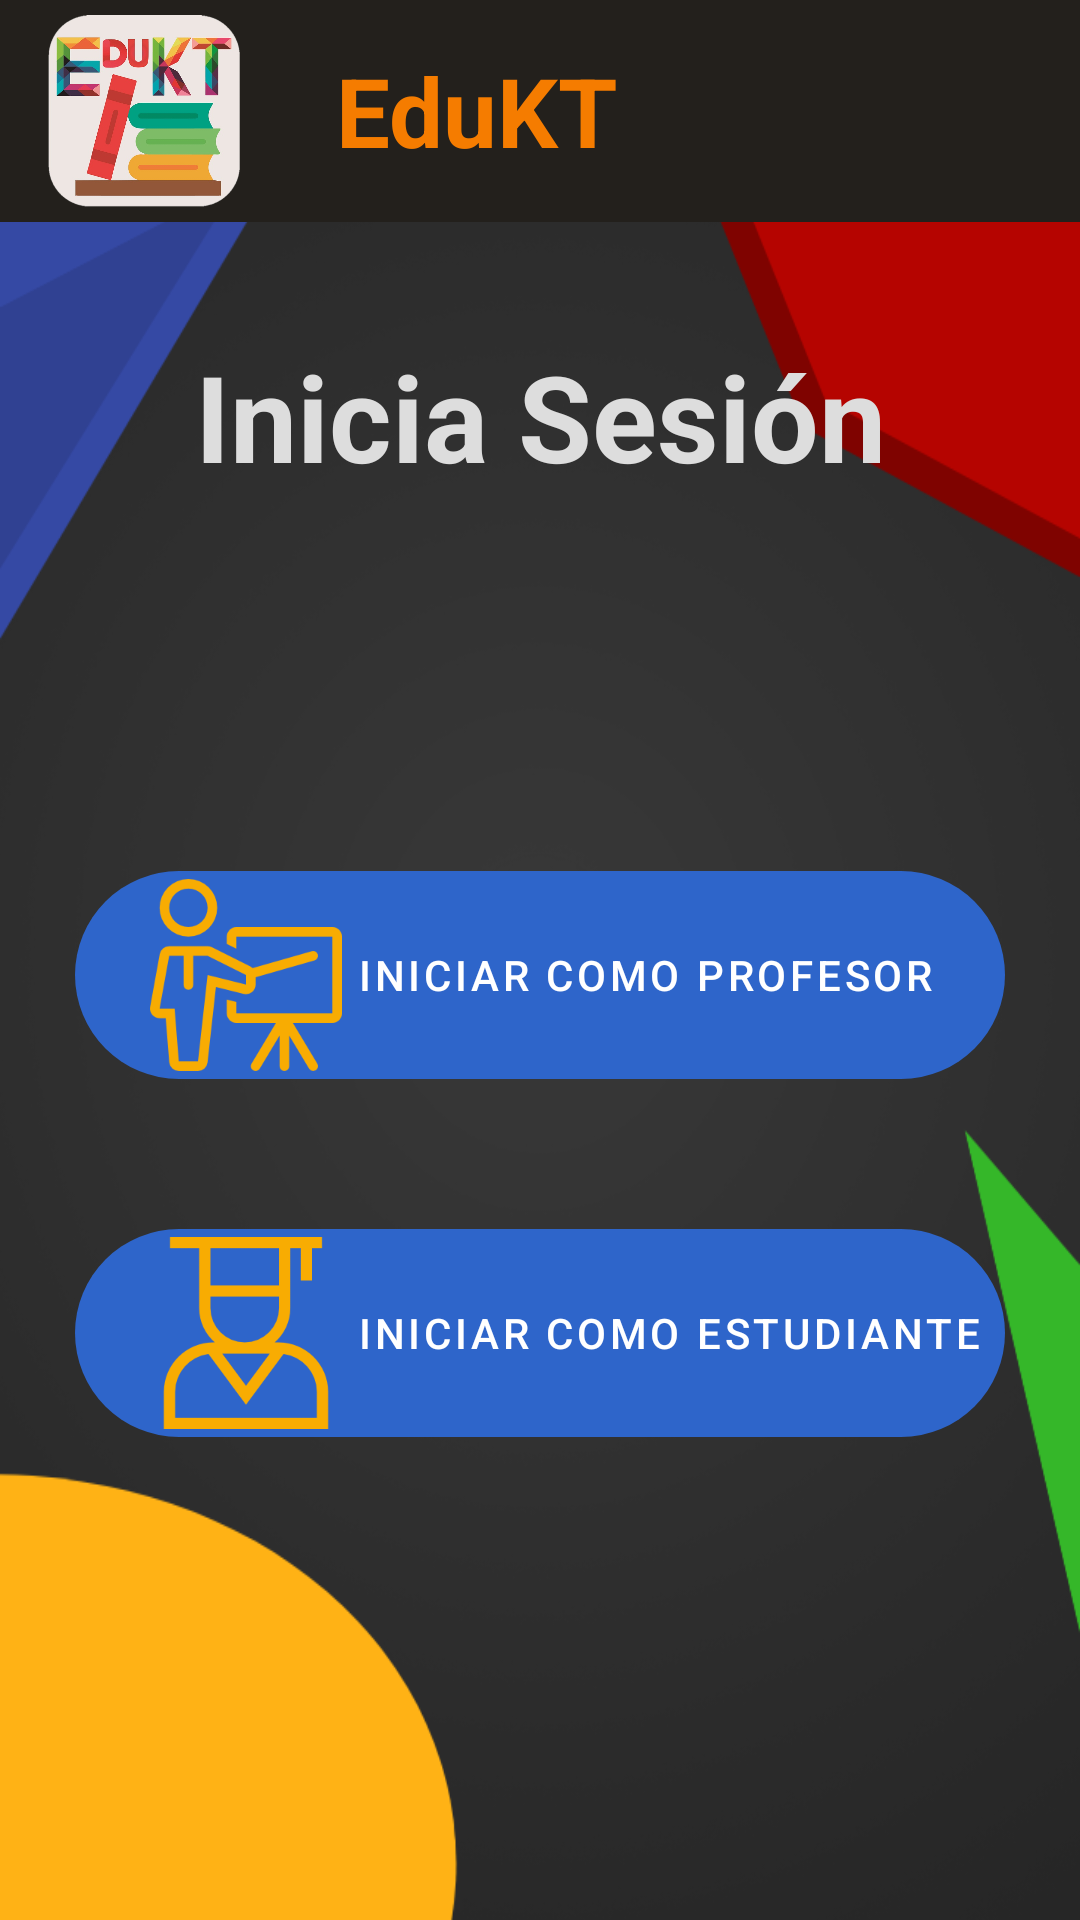

Icon bounding boxes for this 1080×1920 phone screenshot, format (x1, y1, x2, y2):
student: (163, 1237, 329, 1429)
teacher: (150, 879, 342, 1071)
